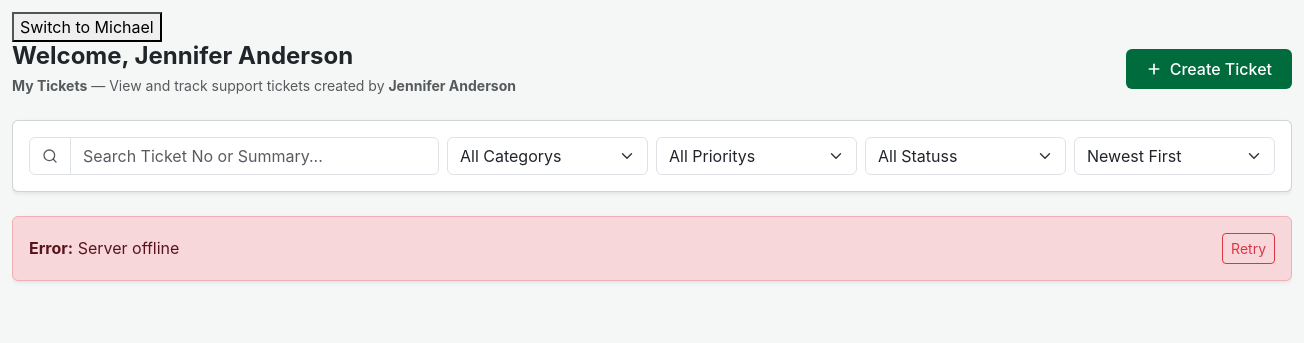
Test: MyTicketsView Component (Issue 11) › renders Error state with Retry button and re-fetches tickets on click
The width and height of the screenshot is (1304, 343).
expect the element with test id "tickets-error" is shown: met, box [12,216,1292,281]
expect the text "Error: Server offline" is shown: met, box [29,236,179,260]
Step 1. Click the button with test id "retry-tickets-btn" → [1249, 248], box [1222,233,1275,264]
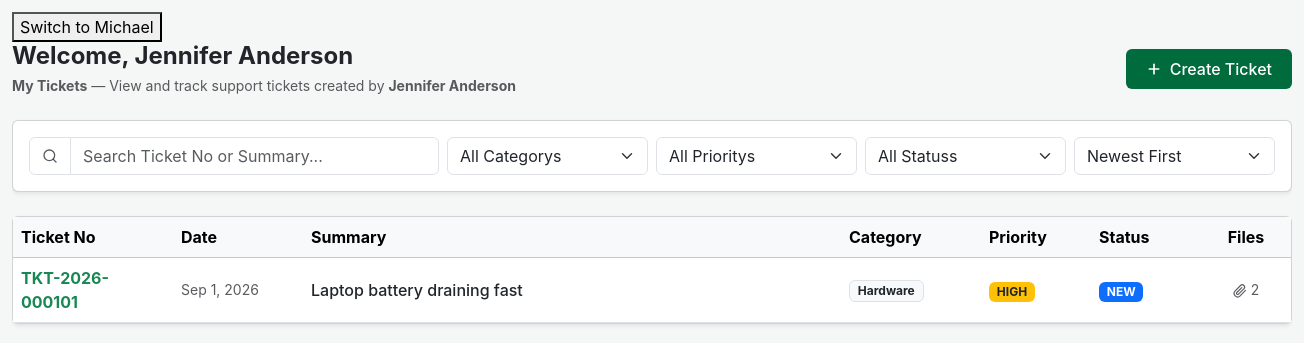
expect the element with test id "tickets-error" is gone: met
expect the text "TKT-2026-000101" is shown: met, box [21,268,109,312]
